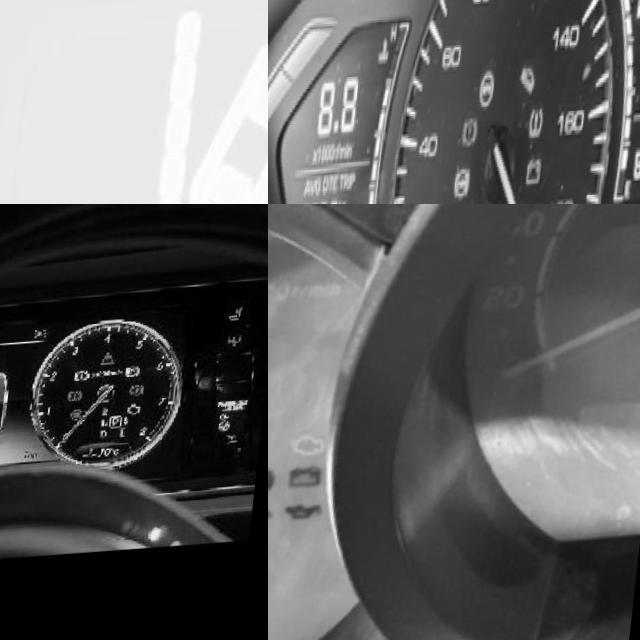Electronic Power Steering: (80, 415, 99, 433)
High Engine Coolant Temperature: (92, 455, 107, 469)
